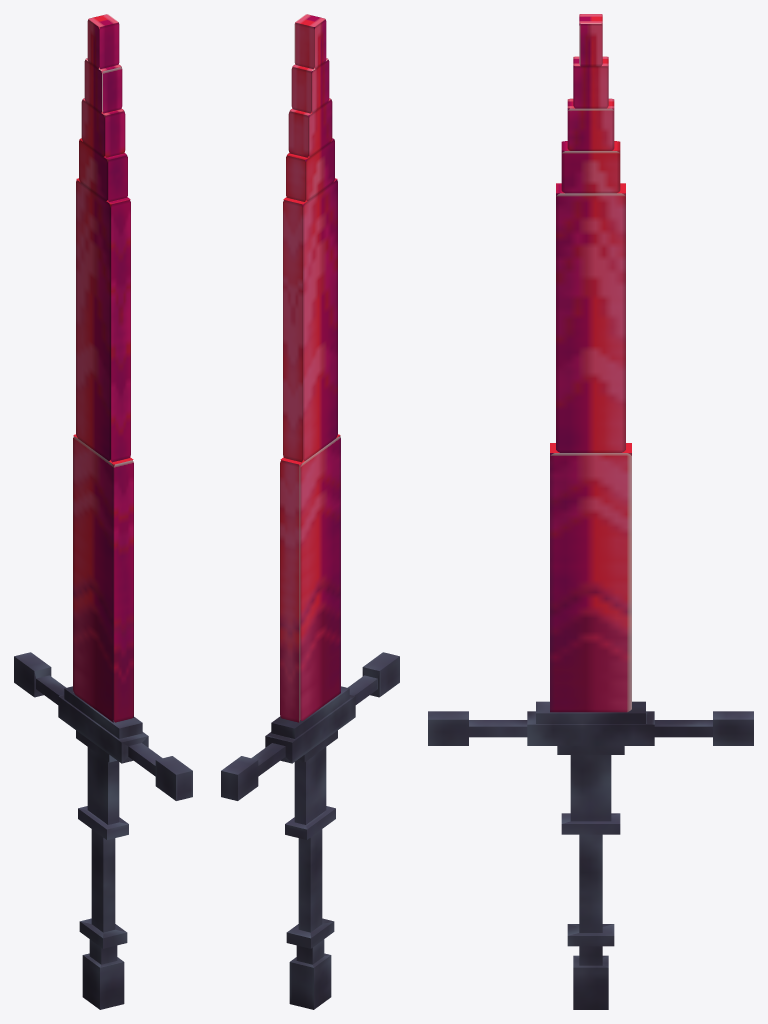
The model's file is pixel_sword3_lowpoly.fbx.
3 renders of one model, left to right at view 1: azimuth 30°, elevation 25°; view 2: azimuth 150°, elevation 25°; view 3: azimuth 270°, elevation 25°, orthographic.
Visible parts, largest first — view 1: pixel_sword3_blade, pixel_sword3_handle; view 2: pixel_sword3_blade, pixel_sword3_handle; view 3: pixel_sword3_blade, pixel_sword3_handle.
Part boxes in pixels (<box>): pixel_sword3_blade: <box>73,14,133,722</box>; pixel_sword3_handle: <box>14,652,192,1009</box>; pixel_sword3_blade: <box>280,14,340,722</box>; pixel_sword3_handle: <box>221,652,399,1009</box>; pixel_sword3_blade: <box>550,14,631,712</box>; pixel_sword3_handle: <box>428,701,753,1009</box>.
Bounding box in the file's own units: 3.34 × 116 × 34.84.
